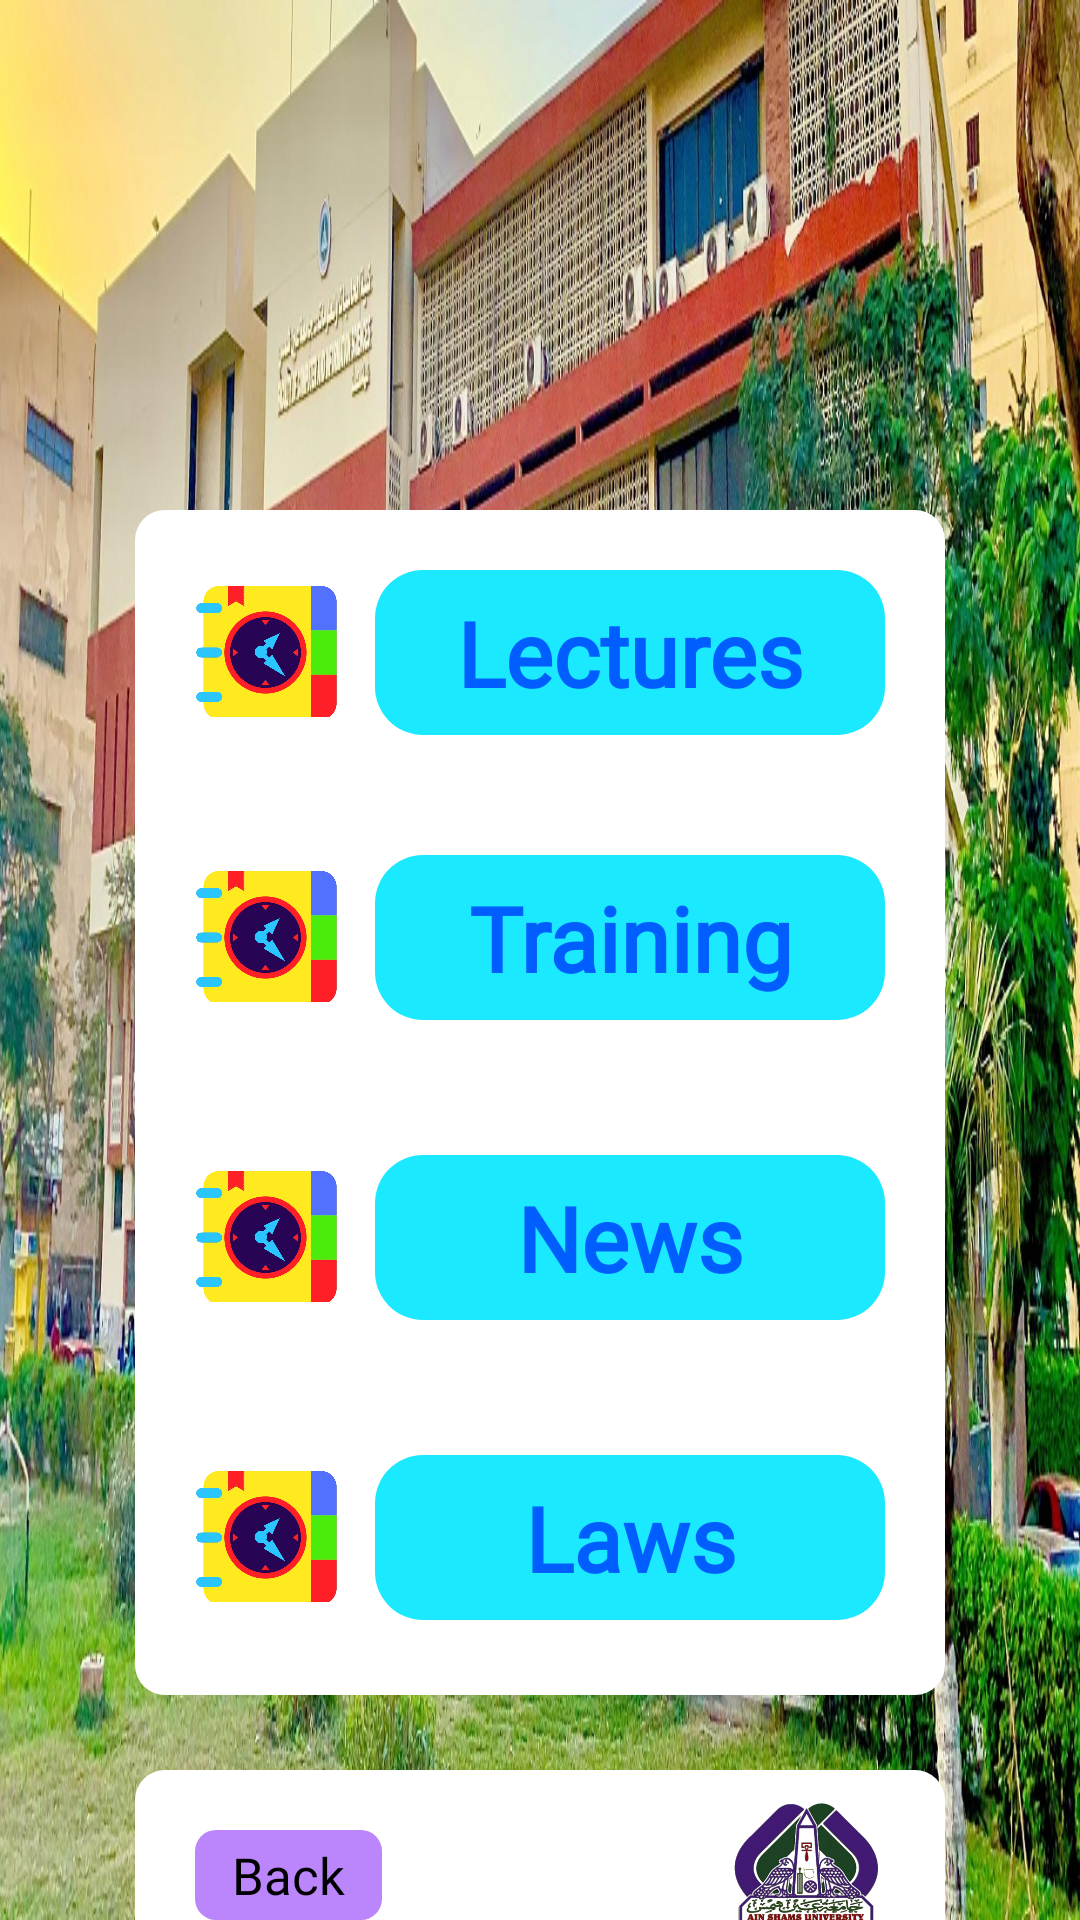

Screen size 1080*1920. Icon name, then its center in pixels as [x,y]:
App Icon: [266,651], [266,936], [266,1236], [266,1536]
